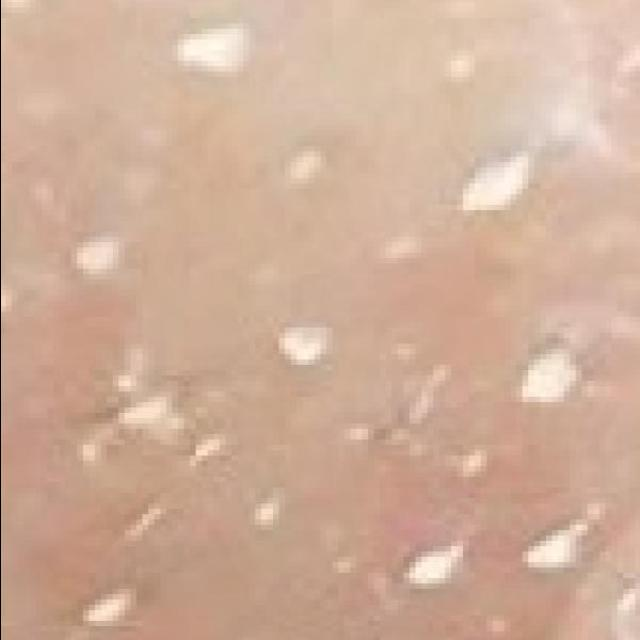whitehead: (25, 5, 640, 640)
